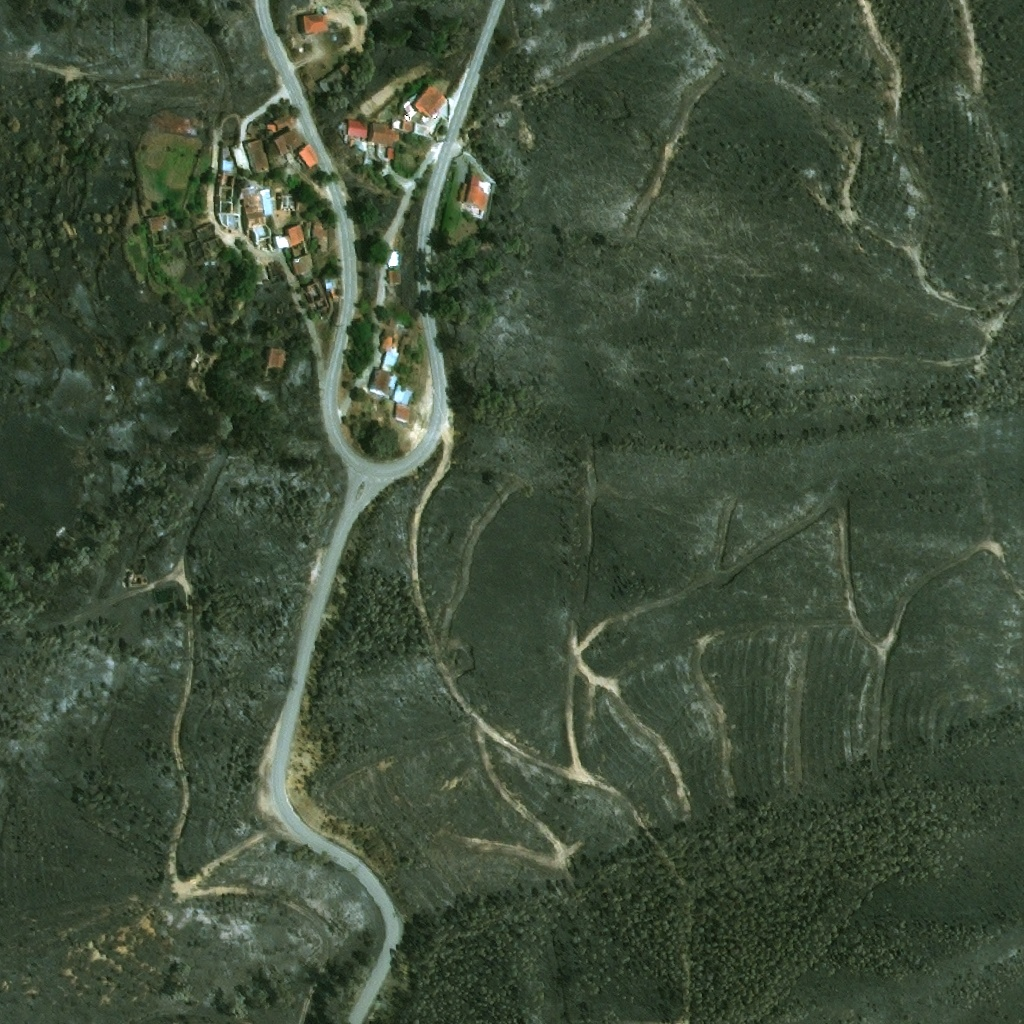0 no-damage: (229, 138, 272, 176), (456, 174, 491, 220), (413, 86, 447, 120), (273, 125, 308, 156), (240, 189, 267, 229), (368, 365, 397, 400), (276, 222, 306, 248), (369, 122, 400, 144), (300, 13, 328, 37), (316, 71, 344, 95), (297, 144, 320, 171), (290, 253, 314, 278), (347, 119, 370, 139), (392, 386, 413, 407), (258, 190, 274, 216), (313, 226, 328, 252), (393, 404, 409, 426), (147, 217, 168, 232), (275, 115, 294, 130), (389, 266, 402, 287), (393, 120, 414, 133), (383, 351, 399, 367), (381, 335, 395, 352), (323, 278, 336, 291), (341, 64, 350, 75), (387, 149, 395, 160), (267, 125, 277, 133)
1 minor-damage: (266, 345, 289, 368)
3 destroyed: (305, 279, 330, 316)
